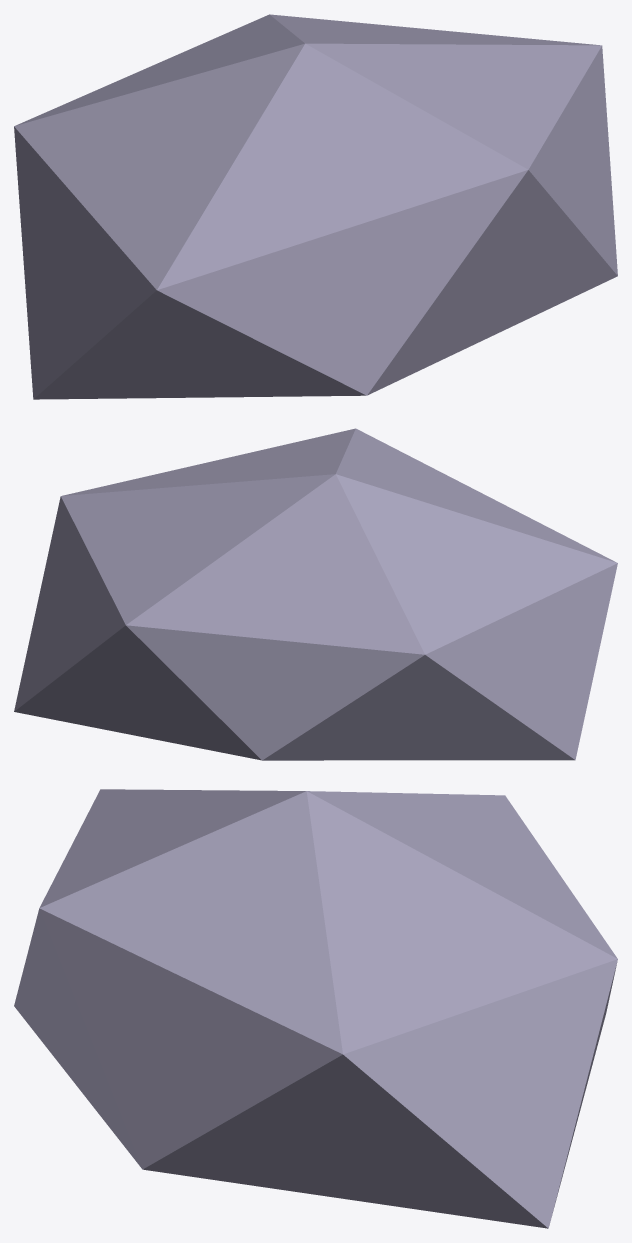
Rendered from stone_tile_0.glb.
3 renders of one model, top to bottom at view 1: azimuth 30°, elevation 25°; view 2: azimuth 150°, elevation 25°; view 3: azimuth 270°, elevation 25°, orthographic. The views are drawn at different scales.
Visible parts, largest first — view 1: stone_tile_0; view 2: stone_tile_0; view 3: stone_tile_0.
Part boxes in pixels (x1,y1,x2,y2): stone_tile_0: (14, 14, 617, 399); stone_tile_0: (14, 428, 617, 760); stone_tile_0: (14, 789, 617, 1228).
Size of the model in its own units: 0.5493 by 0.296 by 0.4477.
